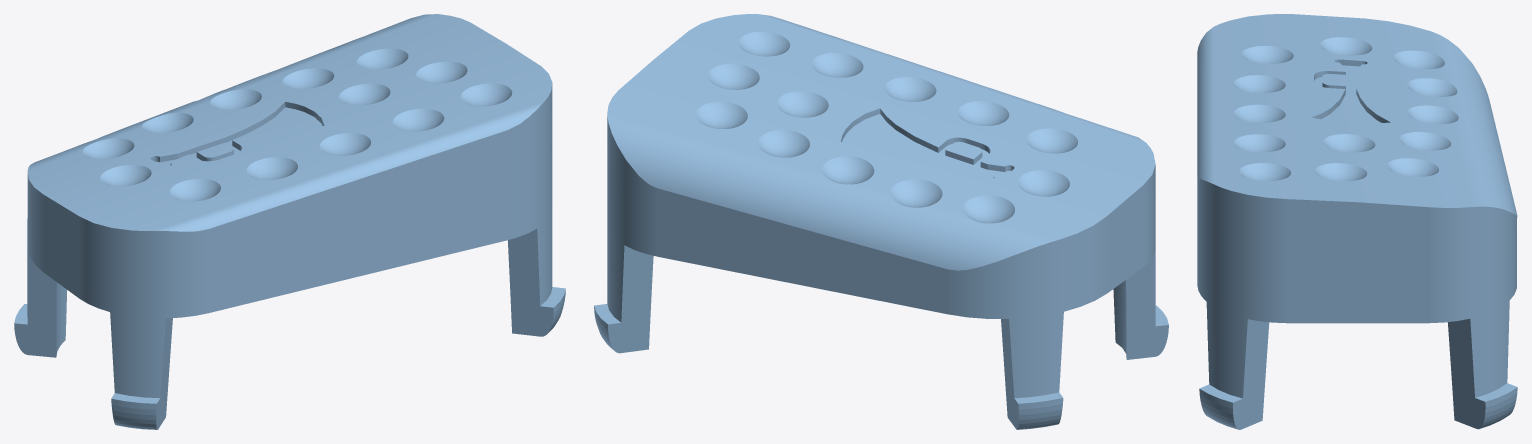
3 renders of one model, left to right at view 1: azimuth 30°, elevation 25°; view 2: azimuth 150°, elevation 25°; view 3: azimuth 270°, elevation 25°, orthographic.
Parts seen in each view (by area): view 1: part_0; view 2: part_0; view 3: part_0.
Boxes of the visible parts, left/top/right/bottom form: part_0: left=14, top=14, right=565, bottom=429; part_0: left=594, top=14, right=1168, bottom=429; part_0: left=1197, top=14, right=1517, bottom=429.
Bounding box in the file's own units: 38.92 × 18.99 × 23.32.
